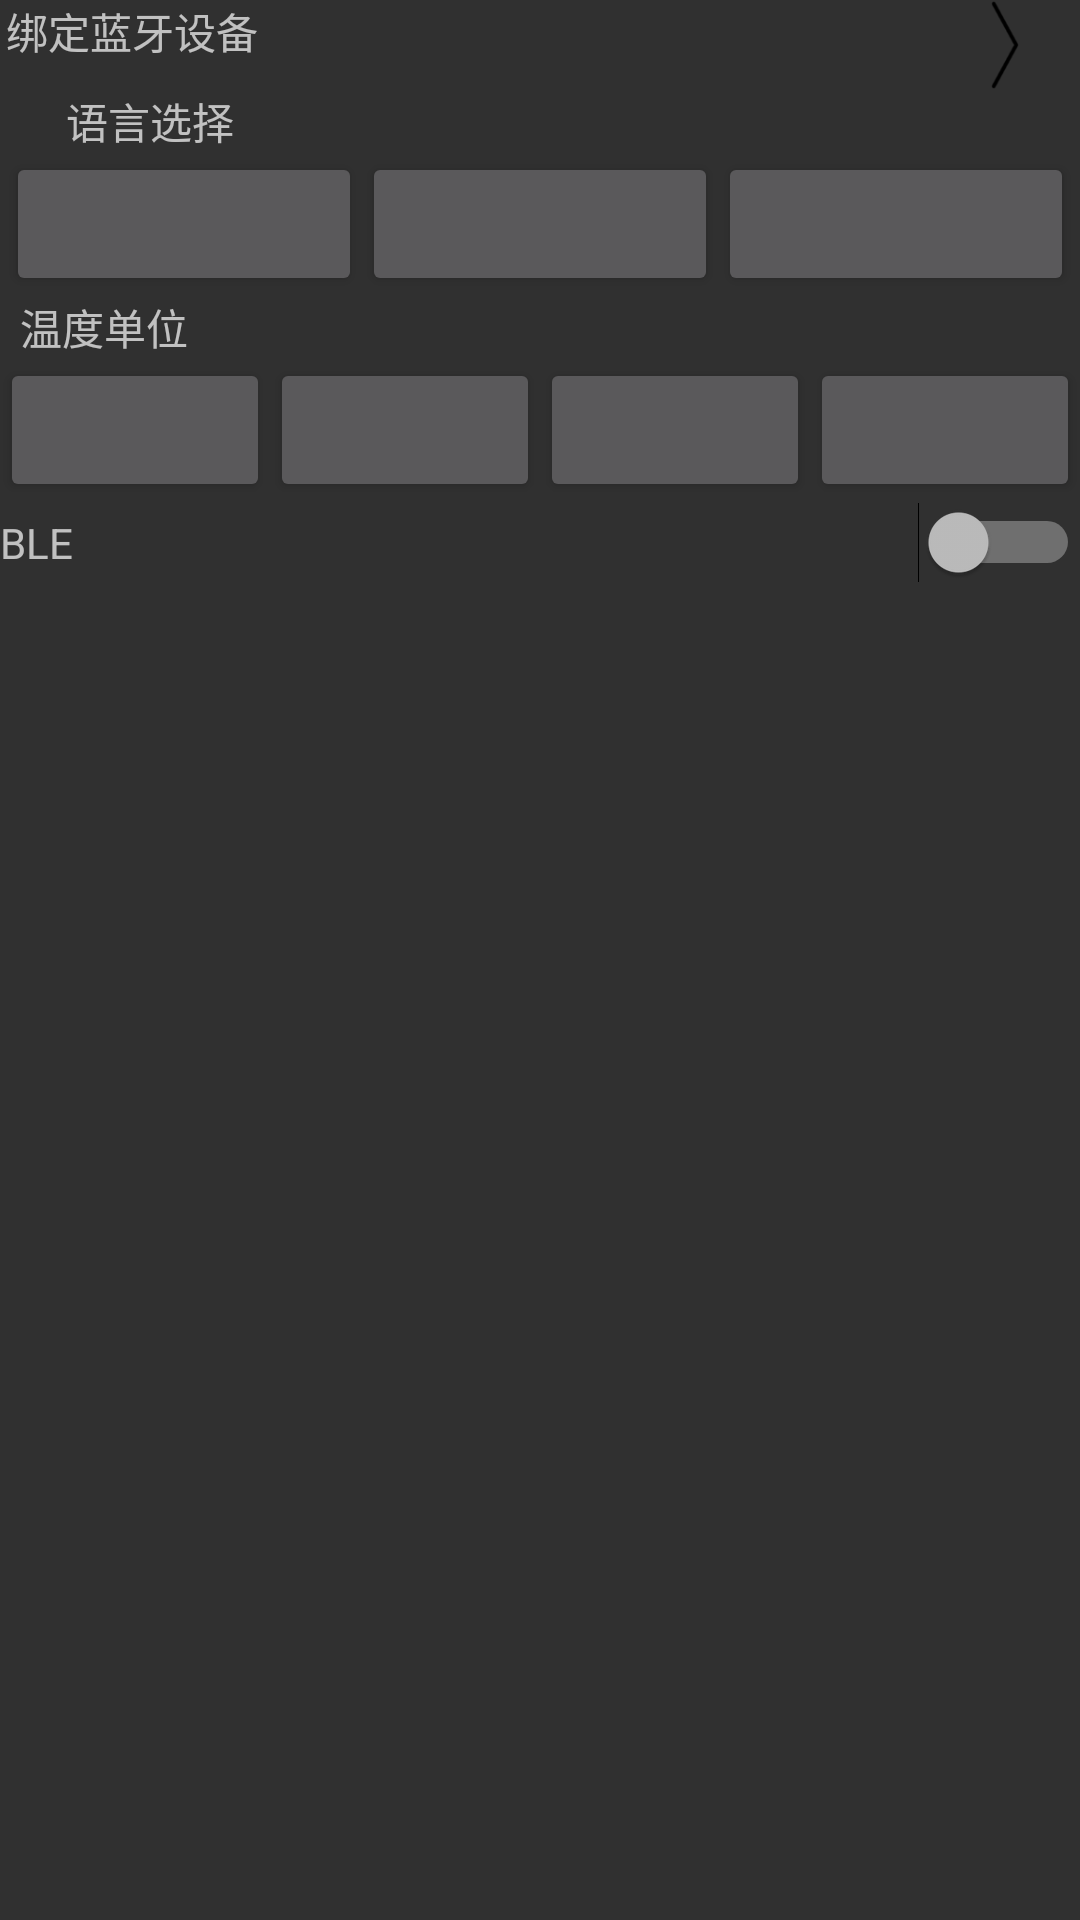

Where icons sit on this 1080 × 1920 app screen, as (x1, y1, x2, y2):
right arrow: (992, 2, 1018, 88)
